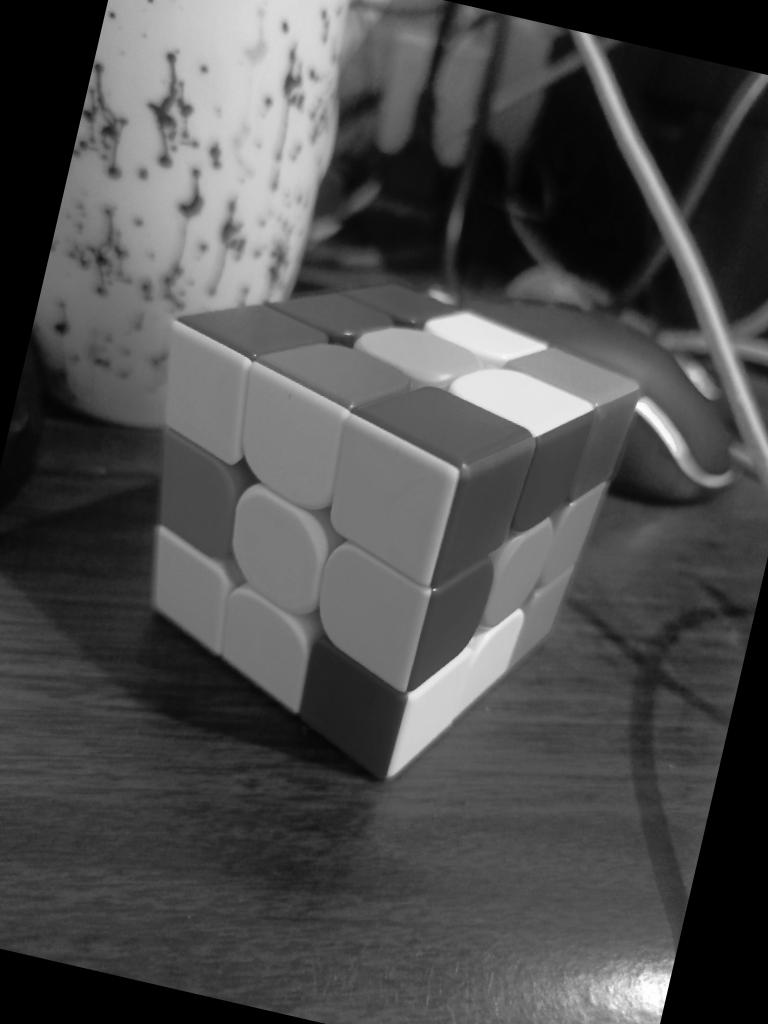rubik: (82, 226, 658, 818)
